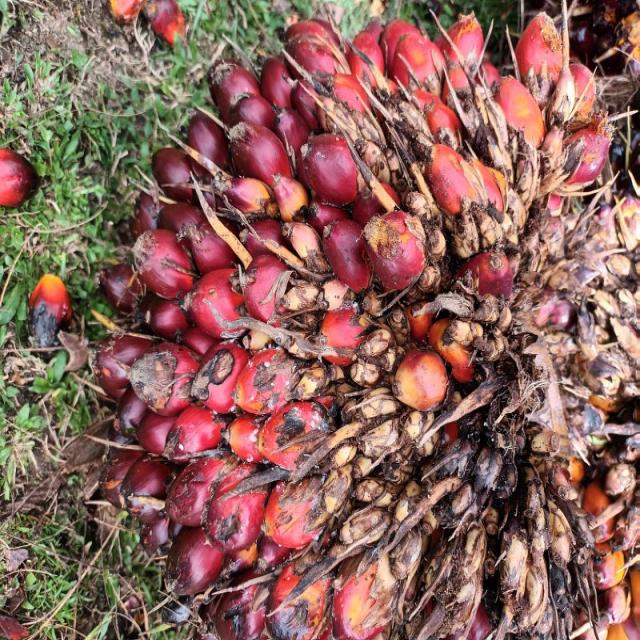fraksi 3: (0, 51, 480, 640)
